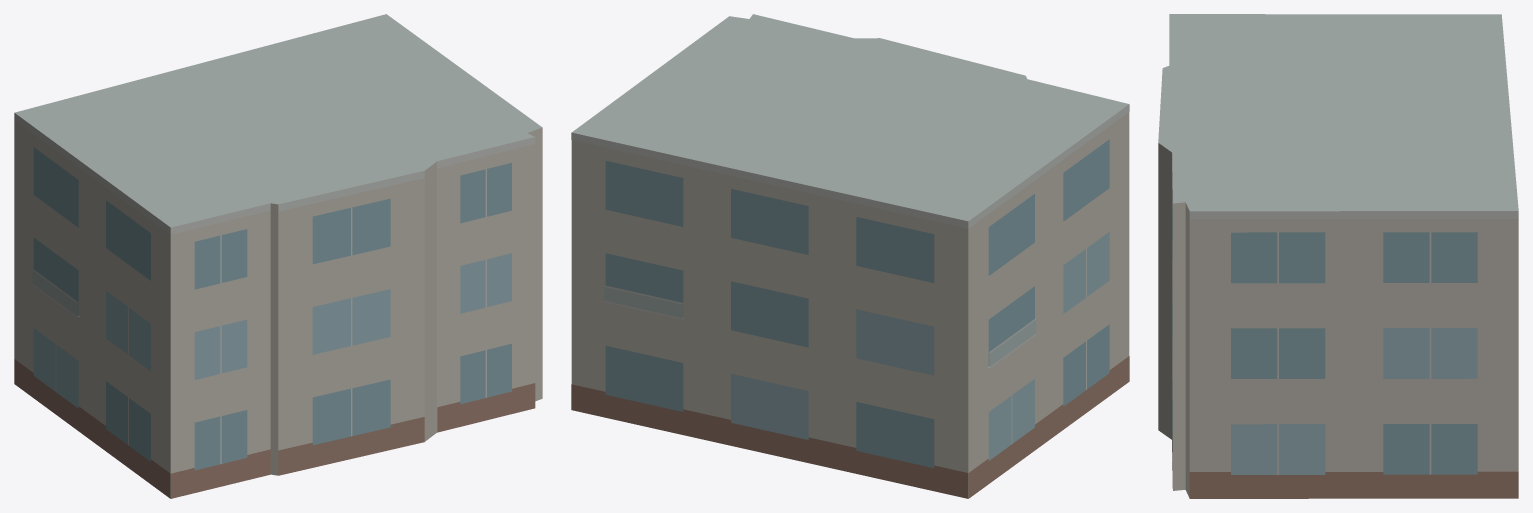
Rendered from survey-upis-32532548.glb.
3 renders of one model, left to right at view 1: azimuth 30°, elevation 25°; view 2: azimuth 150°, elevation 25°; view 3: azimuth 270°, elevation 25°, orthographic. The views are drawn at different scales.
Parts seen in each view (by area): view 1: survey-upis-32532548.tmp; view 2: survey-upis-32532548.tmp; view 3: survey-upis-32532548.tmp.
Boxes of the visible parts, bbox=[...] form: survey-upis-32532548.tmp: bbox=[14, 14, 542, 498]; survey-upis-32532548.tmp: bbox=[571, 14, 1129, 498]; survey-upis-32532548.tmp: bbox=[1158, 14, 1518, 498].
Size of the model in its own units: 13.5 by 9.15 by 10.41.
